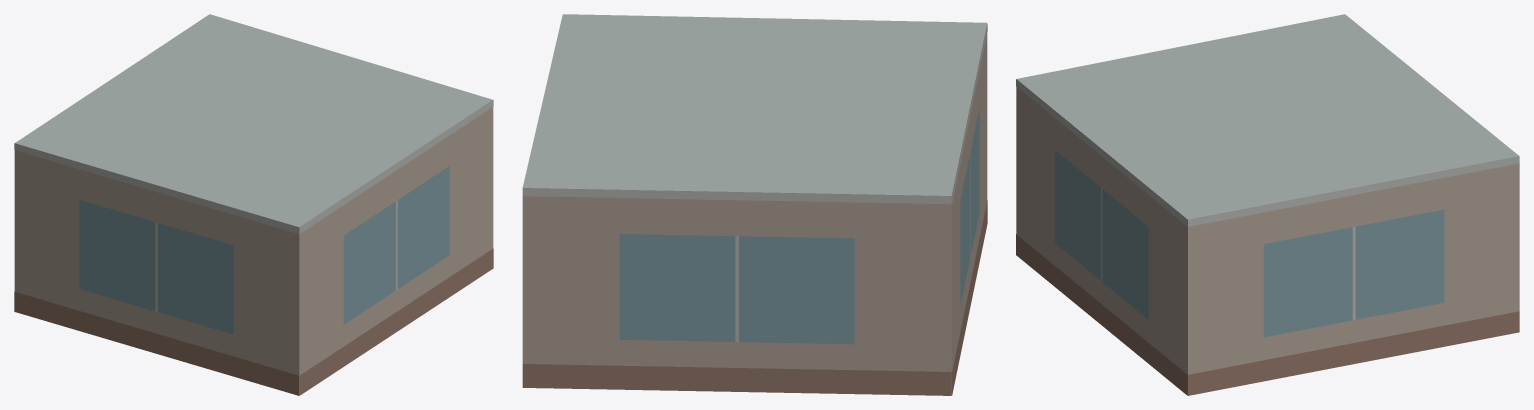
The model's file is survey-upis-32602638.glb.
The picture shows the model from 3 angles, left to right: view 1: azimuth 30°, elevation 25°; view 2: azimuth 150°, elevation 25°; view 3: azimuth 270°, elevation 25°; orthographic projection. The views are drawn at different scales.
Visible parts, largest first — view 1: survey-upis-32602638.tmp; view 2: survey-upis-32602638.tmp; view 3: survey-upis-32602638.tmp.
Boxes of the visible parts, x1,y1,x2,y2 form: survey-upis-32602638.tmp: (14, 14, 493, 395); survey-upis-32602638.tmp: (522, 14, 987, 395); survey-upis-32602638.tmp: (1016, 14, 1519, 395).
Size of the model in its own units: 7.65 by 3.05 by 7.91.
